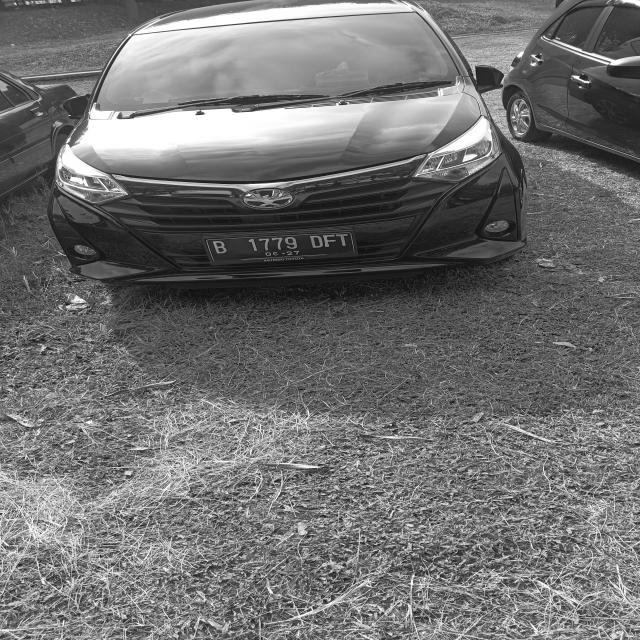license-plat: (198, 228, 364, 271)
